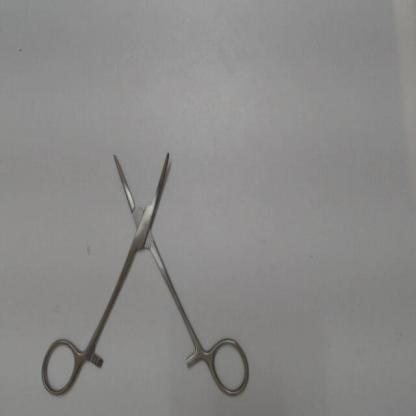Crile Artery Forceps: (33, 140, 256, 408)
